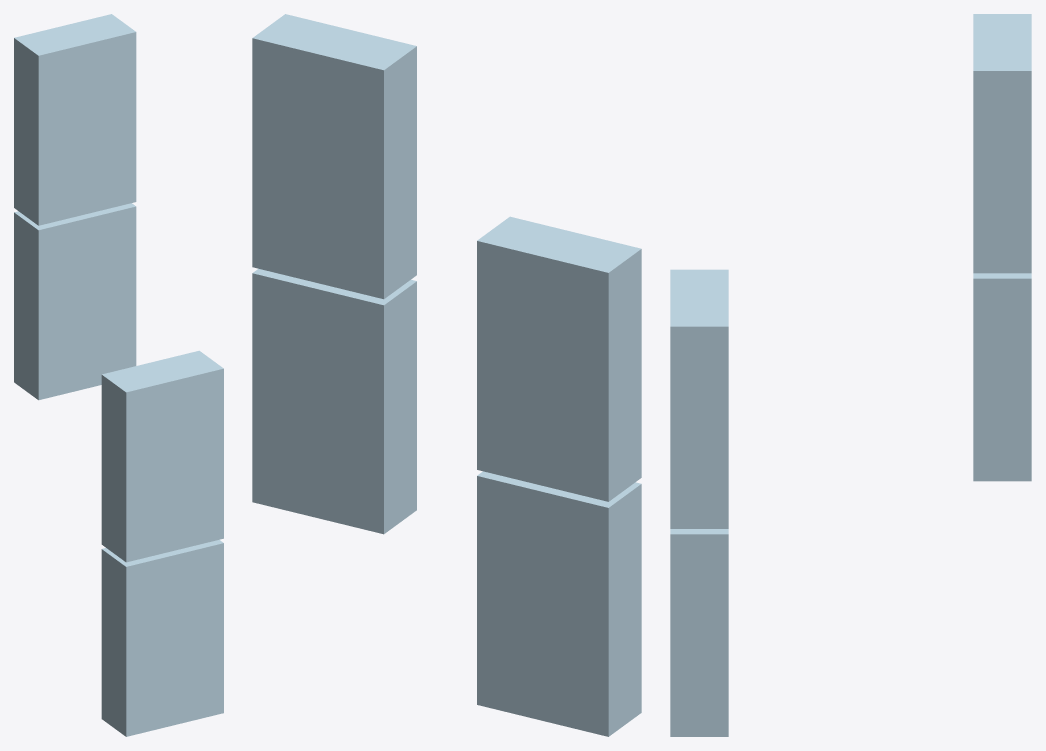
File: boiboites [10].gltf
3 views of the same model, side by side, from view 1: azimuth 30°, elevation 25°; view 2: azimuth 150°, elevation 25°; view 3: azimuth 270°, elevation 25° (orthographic). The views are drawn at different scales.
Visible parts, largest first — view 1: Part 1 (×4); view 2: Part 1 (×4); view 3: Part 1 (×4).
Boxes of the visible parts, bbox=[...] form: Part 1 (×4): bbox=[14, 14, 223, 736]; Part 1 (×4): bbox=[252, 14, 641, 736]; Part 1 (×4): bbox=[670, 14, 1031, 736].
Size of the model in its own units: 0.0988 by 0.3978 by 0.1891.
